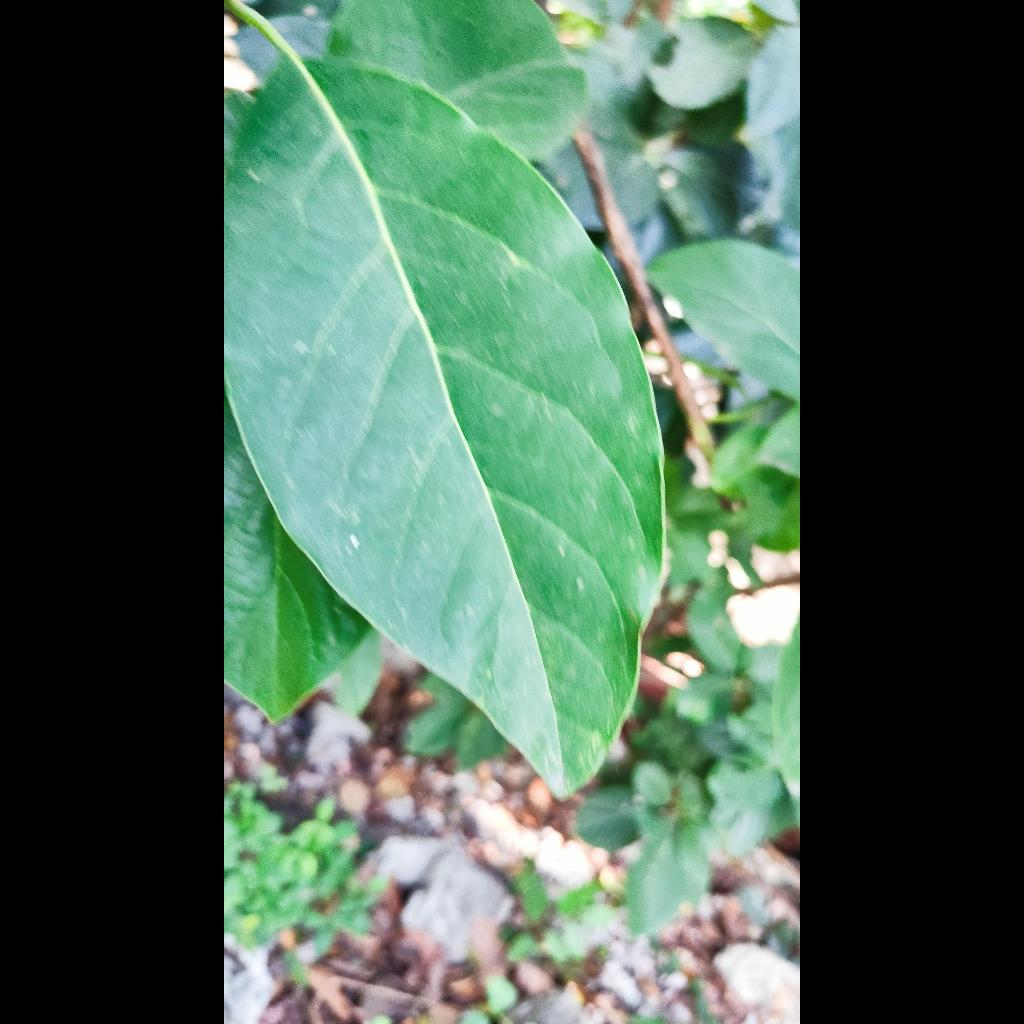hoja_sana: (226, 56, 662, 795)
